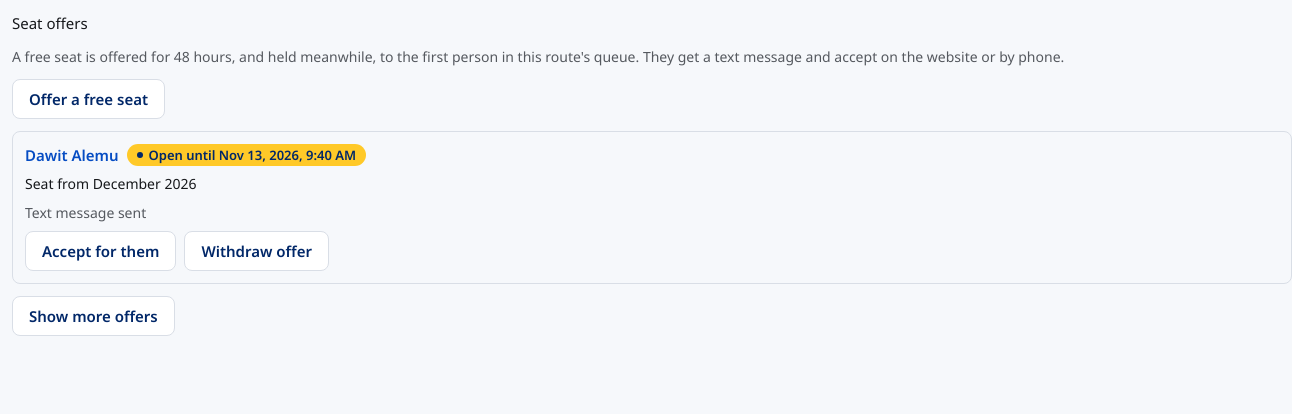
Test: SeatOffers: the list › shows more offers page by page
Expected: the link "Dawit Alemu" is shown, [25, 144, 118, 166]
What coordinates should you click on to do the following:
click the button "Show more offers"
I would click on:
 (93, 316)
Its box is [12, 296, 175, 336].
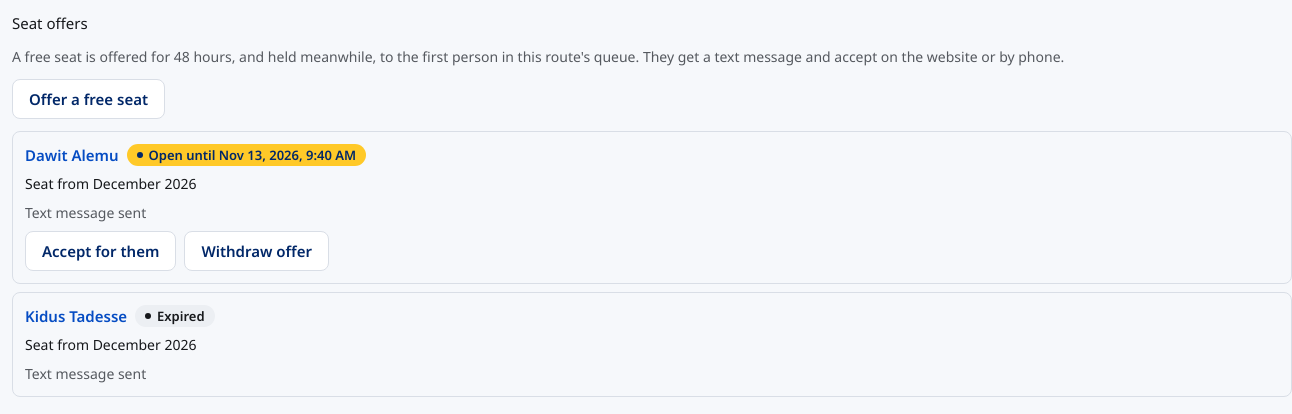
Now the link "Kidus Tadesse" is shown, box [25, 305, 127, 327]
Now the button "Show more offers" is gone
